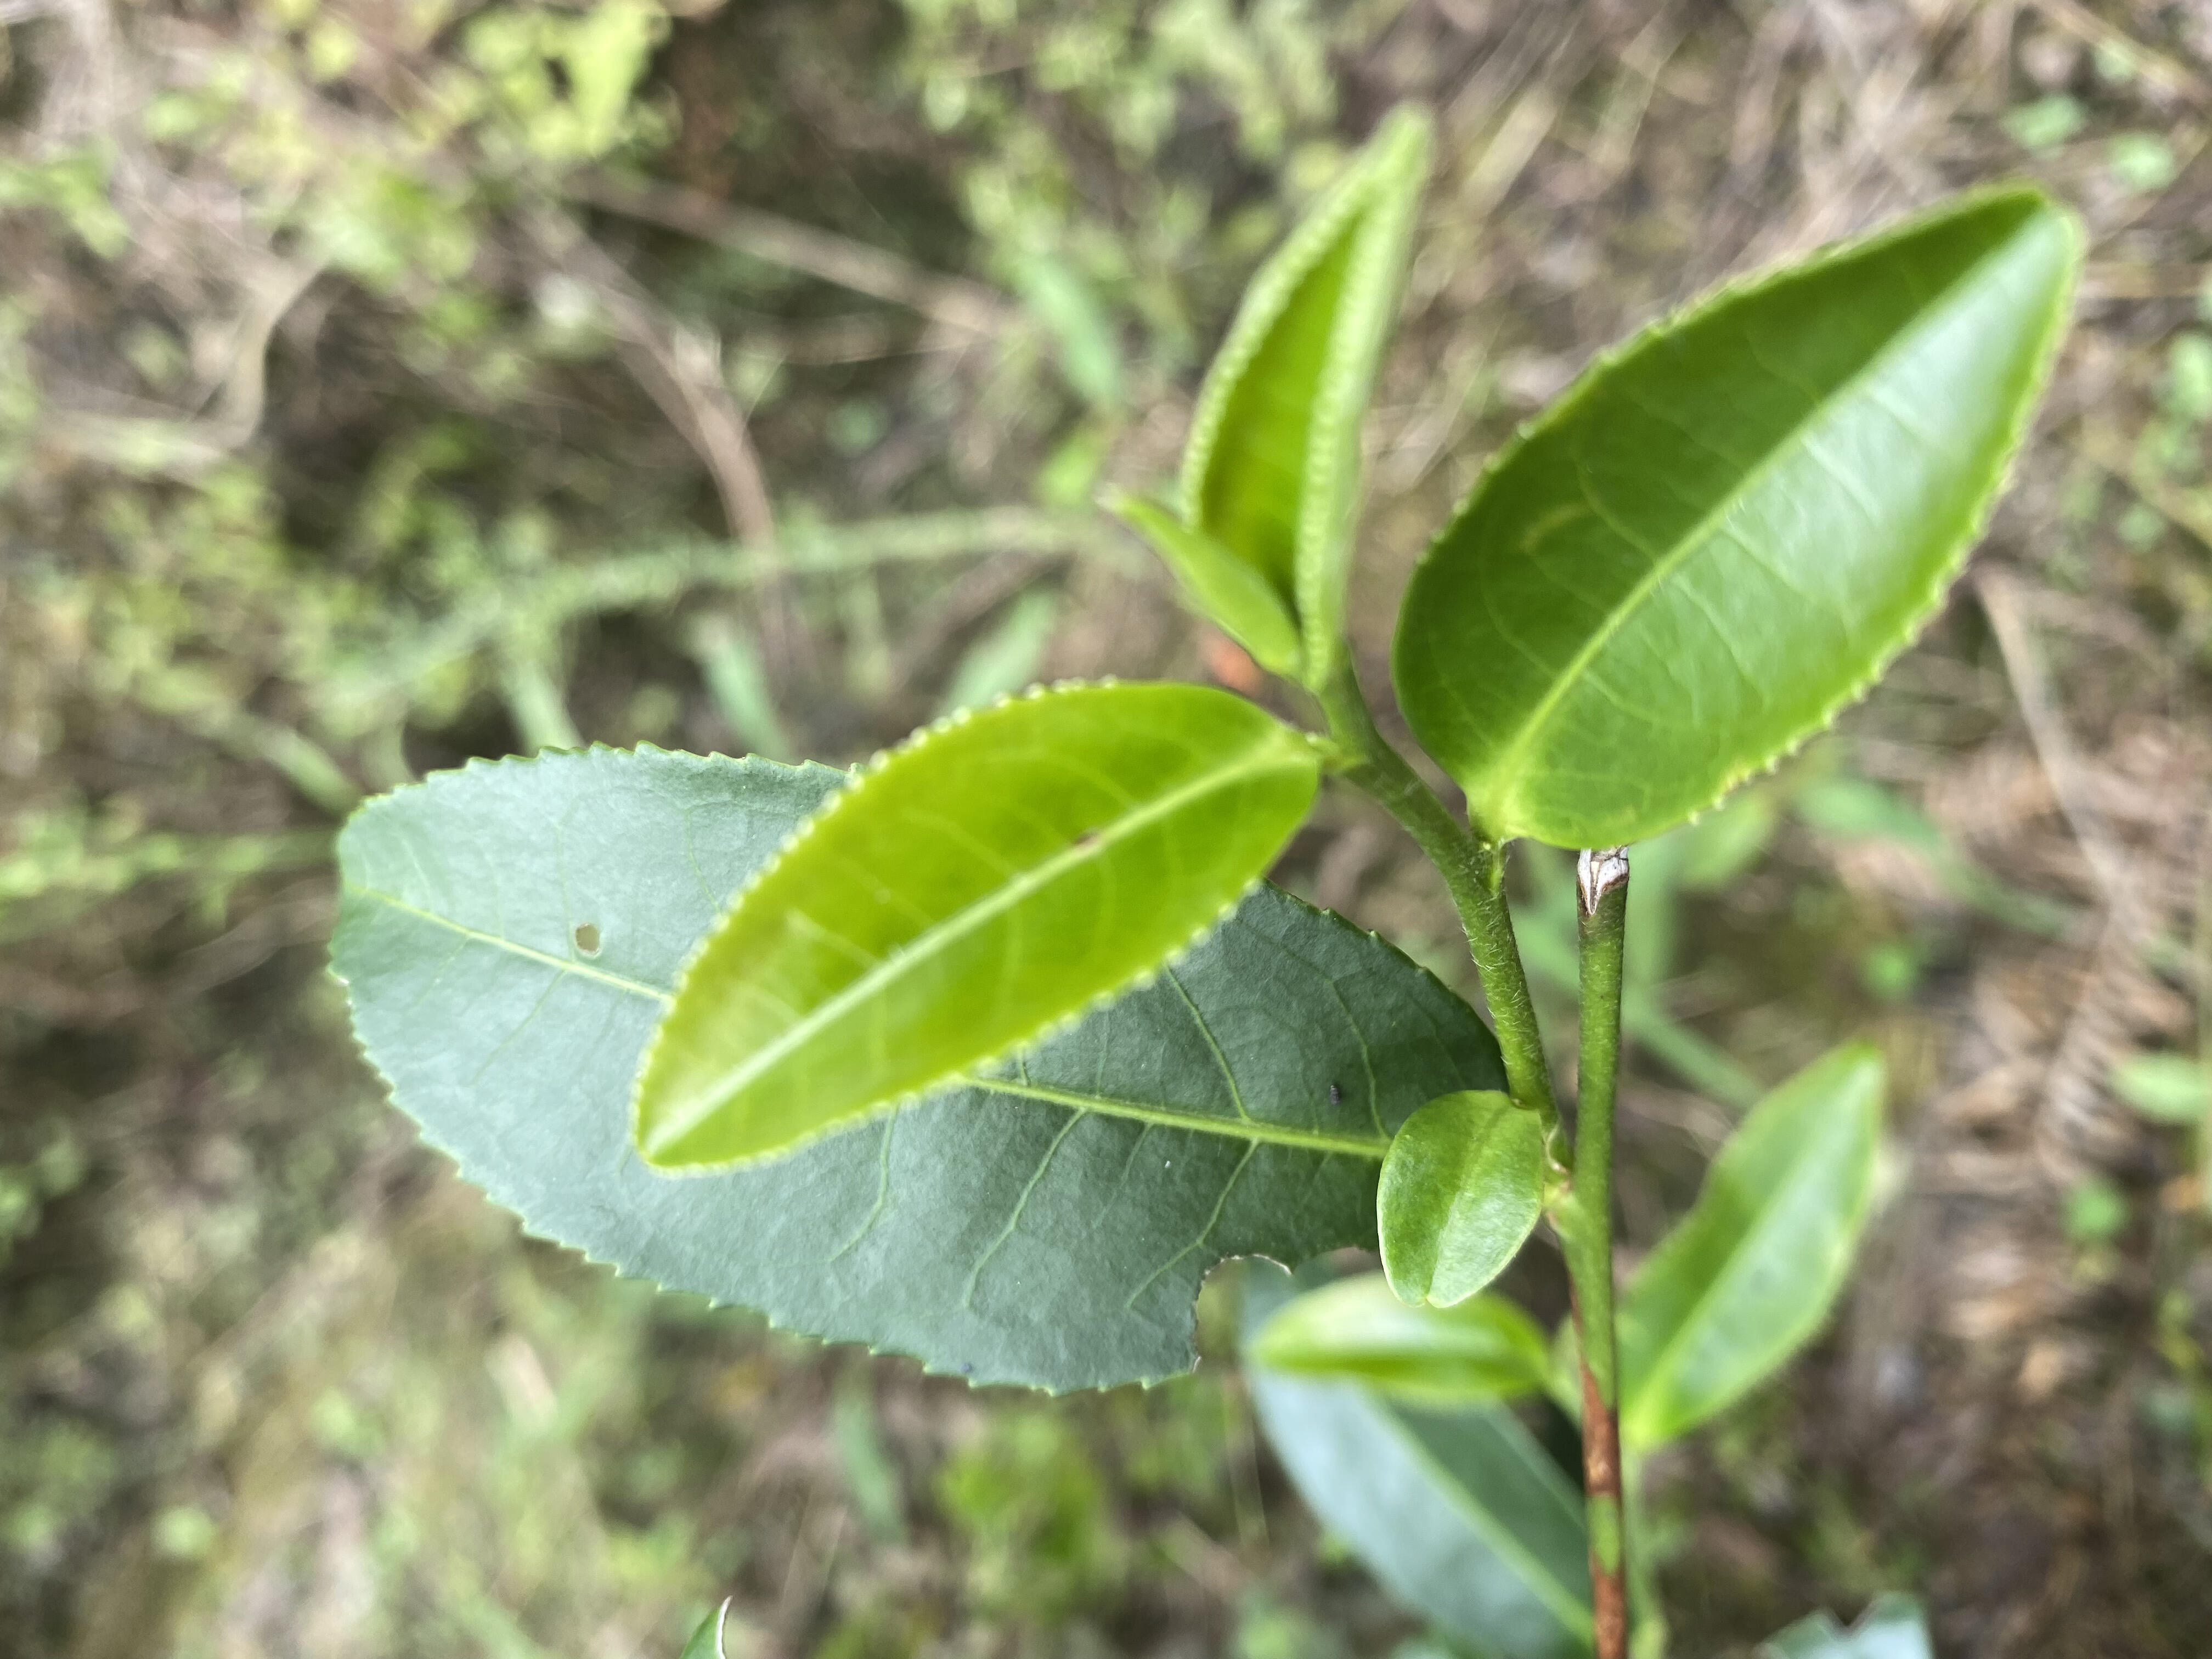chihuo_high: (322, 739, 1503, 1396)
healthy: (1388, 190, 2092, 852), (629, 676, 1325, 1171), (1372, 1089, 1545, 1309)
